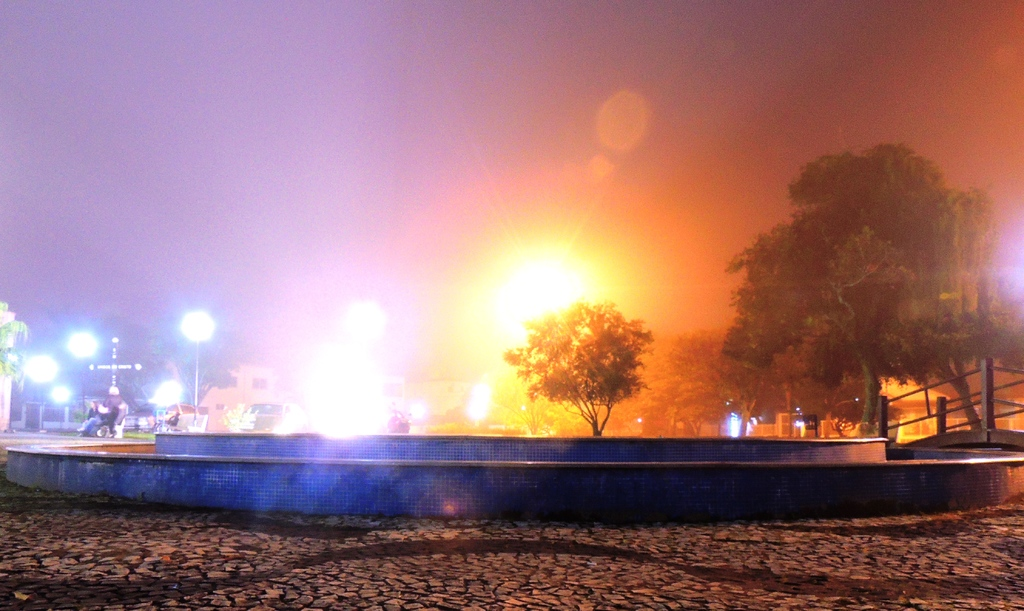Tree: (723, 120, 998, 449), (612, 332, 849, 453), (495, 297, 645, 426)
